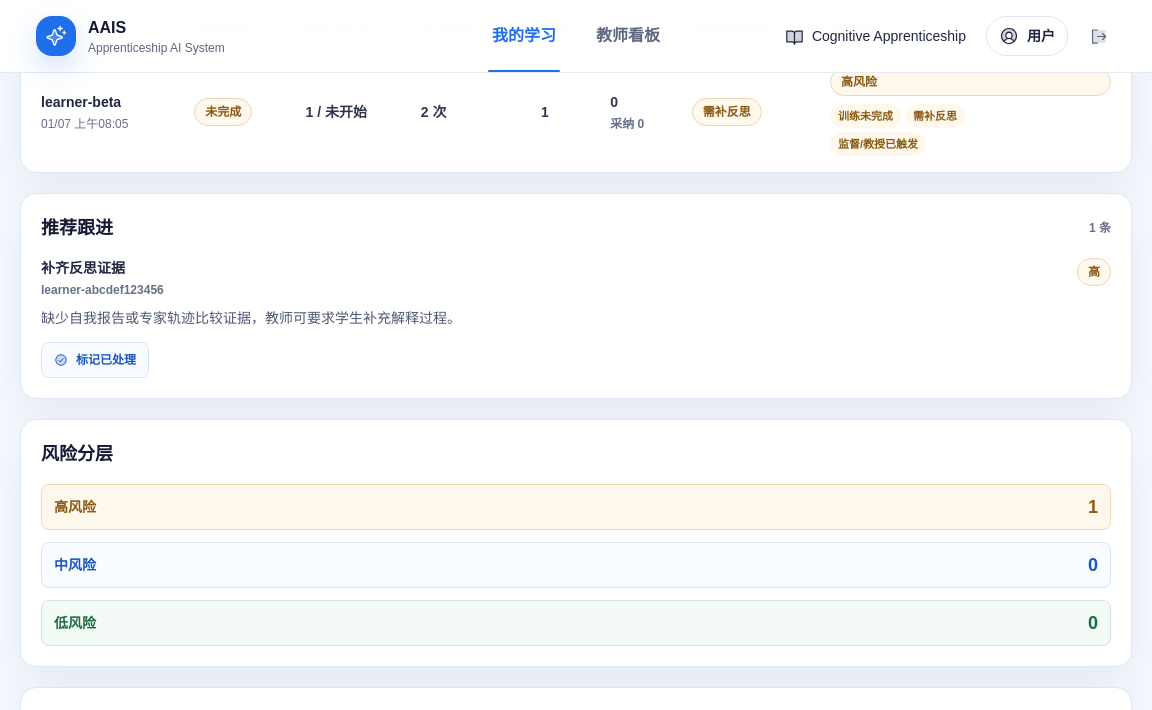
Test case: AAIS TeacherDashboardPage › announces recommendation override progress and blocks duplicate override actions
The width and height of the screenshot is (1152, 710).
(page scrolled)
Expected: the text "补齐反思证据" is shown, [41,260,125,276]
Click the button "标记已处理" at (95, 360), box [41,342,149,378]
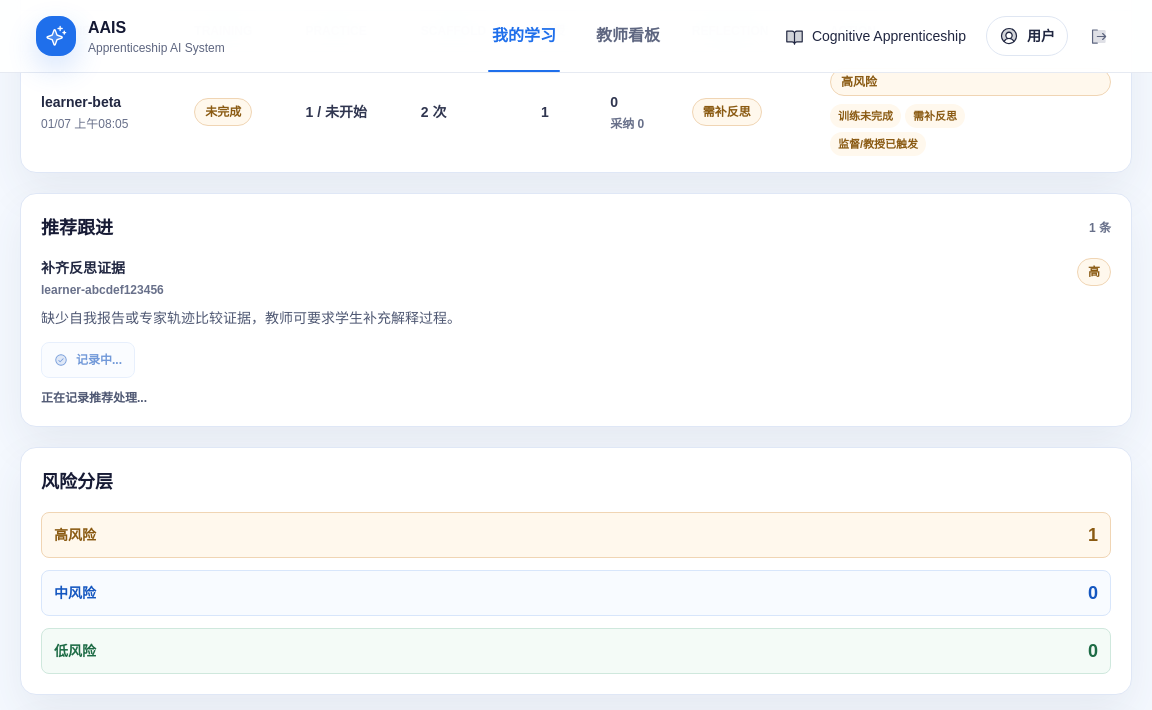
Now the button "记录中..." is disabled
Now the message reads "正在记录推荐处理...", box [41,391,147,405]
Click the button "记录中..." at (88, 360), box [41,342,135,378]
(page scrolled)
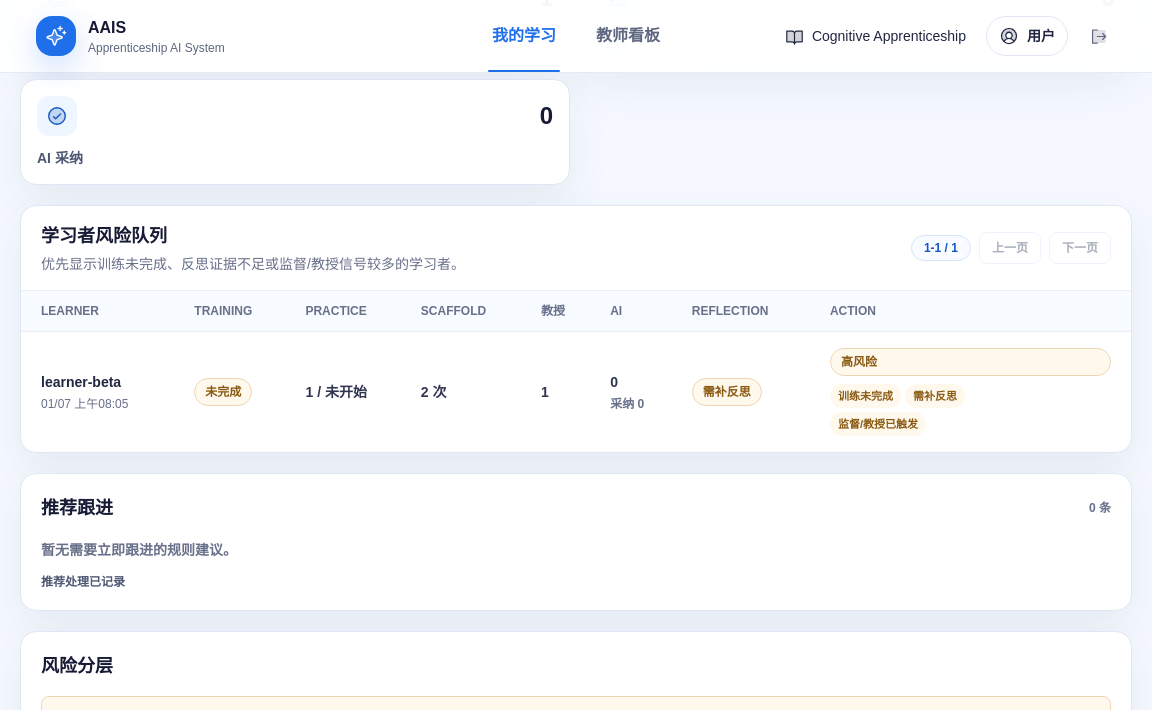
Now the text "推荐处理已记录" is shown, box [41,575,125,589]
